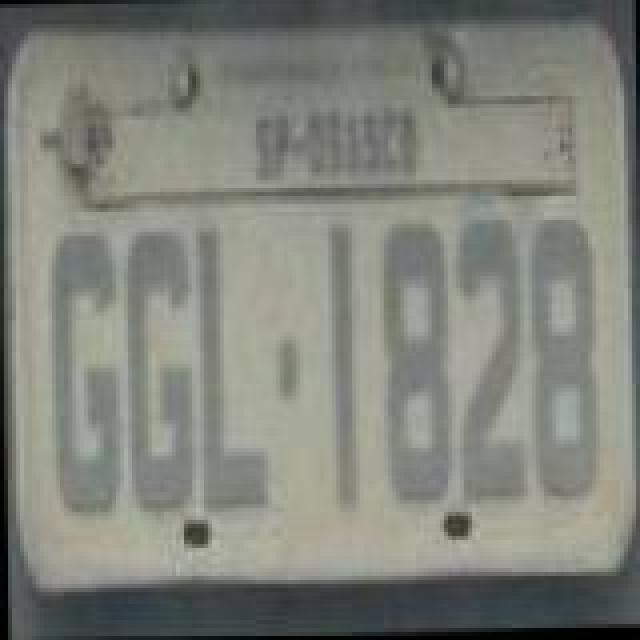1: (328, 224, 356, 520)
2: (454, 216, 526, 504)
8: (382, 226, 454, 514), (526, 222, 598, 510)
G: (44, 228, 120, 516), (122, 220, 194, 516)
L: (194, 224, 266, 512)
